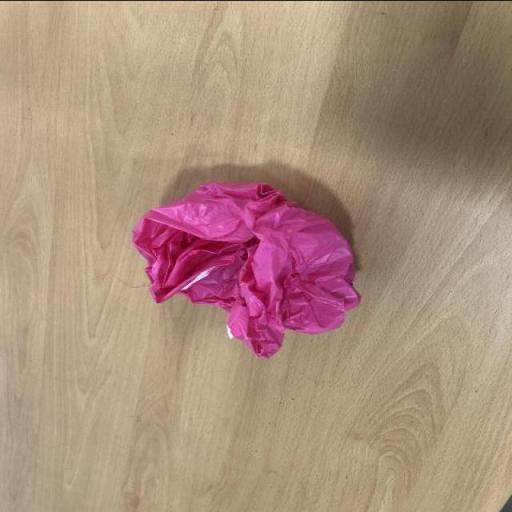plastic-bag: (129, 177, 365, 360)
